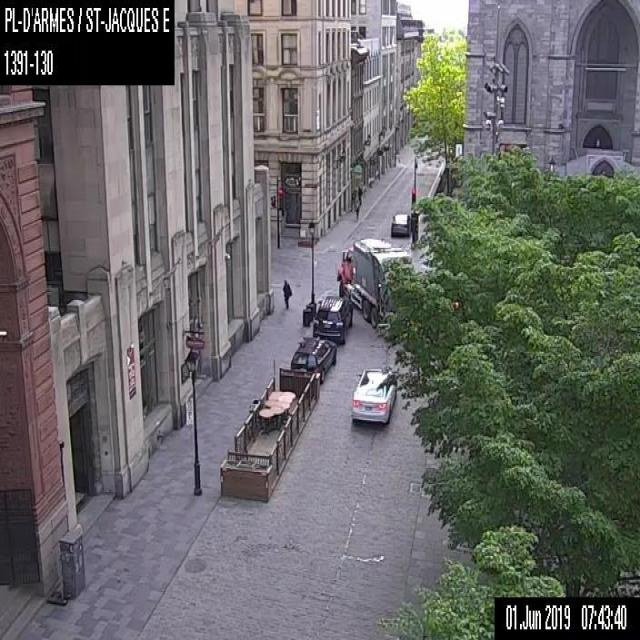pedestrian: (282, 279, 292, 309), (352, 197, 360, 221)
vehicle: (336, 236, 413, 328), (350, 367, 398, 425), (290, 335, 336, 383), (312, 294, 352, 344), (389, 212, 411, 237)
